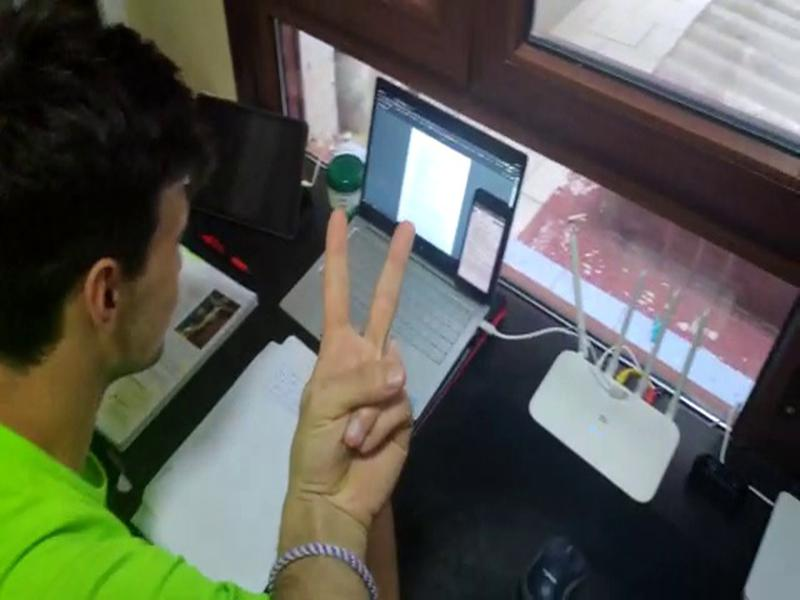Peace: (277, 192, 428, 504)
